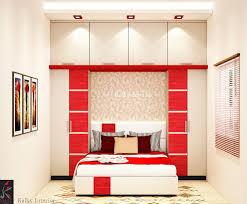bed: (72, 118, 183, 199)
light: (173, 11, 183, 23), (123, 14, 138, 21), (74, 12, 82, 23)
